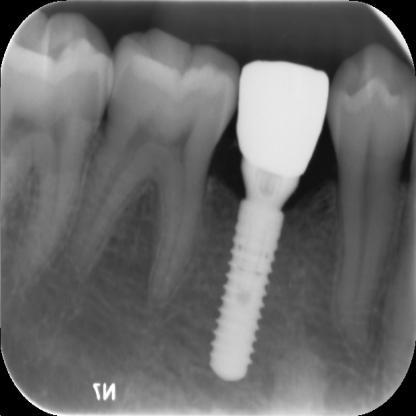ITI: (205, 196, 288, 388)
